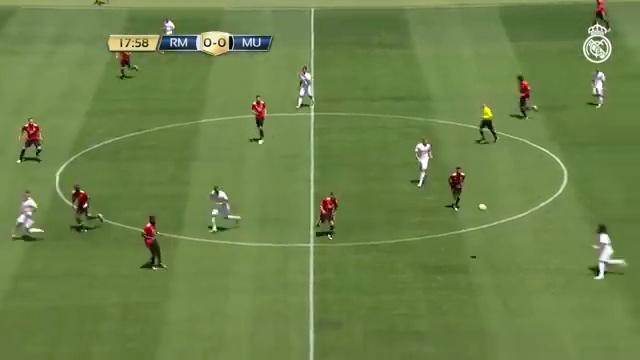football: (478, 204, 486, 210)
player: (593, 224, 625, 279), (71, 185, 103, 231), (141, 216, 167, 270), (210, 186, 240, 232), (12, 190, 41, 237), (17, 118, 41, 162), (316, 192, 337, 239), (517, 75, 537, 118), (415, 138, 432, 187), (296, 65, 314, 108), (448, 167, 465, 210), (251, 95, 266, 143), (117, 51, 138, 78), (592, 0, 610, 30), (592, 68, 605, 107), (162, 18, 175, 35), (94, 0, 108, 5)
referee: (479, 104, 497, 141)
